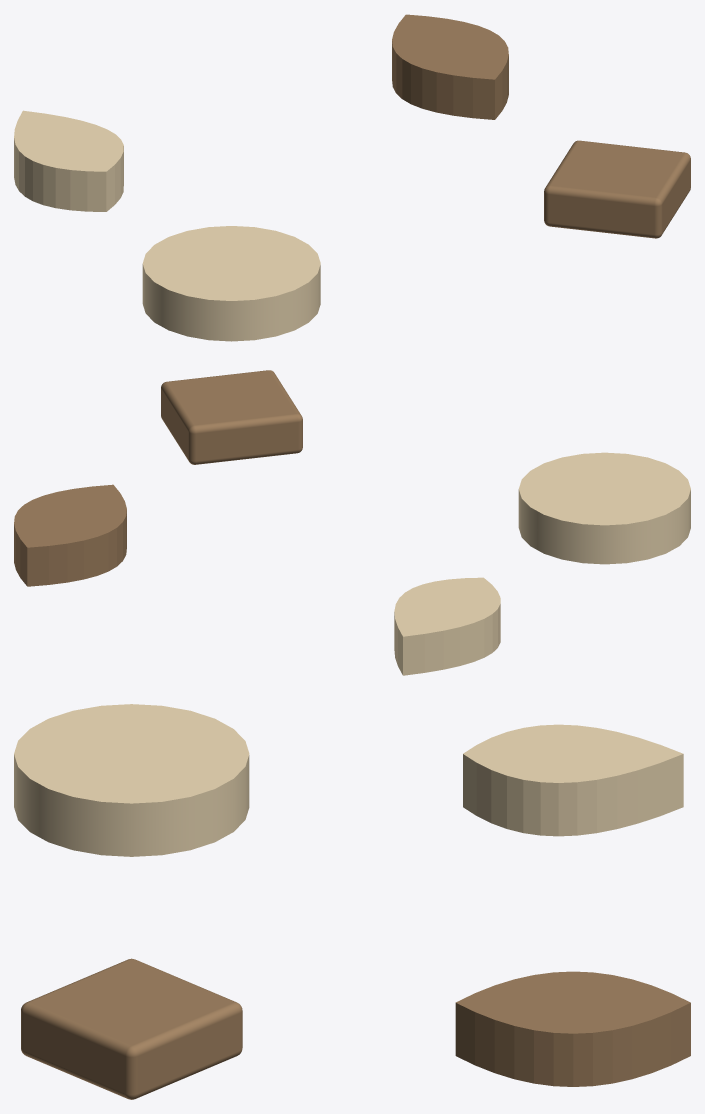
Rendered from marquetry-and-veneer-inlay-workshop-matching-shaped-pe-567859b6__39106.glb.
3 renders of one model, top to bottom at view 1: azimuth 30°, elevation 25°; view 2: azimuth 150°, elevation 25°; view 3: azimuth 270°, elevation 25°, orthographic. The views are drawn at different scales.
Visible parts, largest first — view 1: matching-shaped-petal-insert-cluster; view 2: matching-shaped-petal-insert-cluster; view 3: matching-shaped-petal-insert-cluster.
Part boxes in pixels (x1,y1,x2,y2): matching-shaped-petal-insert-cluster: (14,14,690,341); matching-shaped-petal-insert-cluster: (14,370,690,675); matching-shaped-petal-insert-cluster: (14,704,690,1099).
Bounding box in the file's own units: 0.2776 × 0.02 × 0.23.
